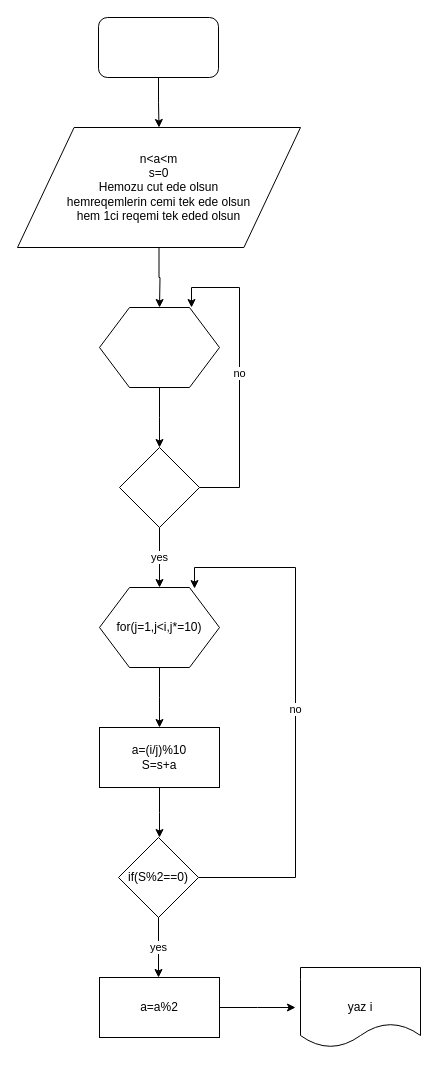
Some shapes in this 438 by 1065 pixel diagram are drawn without their labels. The centre of each missing label's shape, as x and y in pixels:
"basla" goes at [158,47].
"i=n,i<m,i++" goes at [159,347].
"if(i%2==0)" goes at [159,487].
